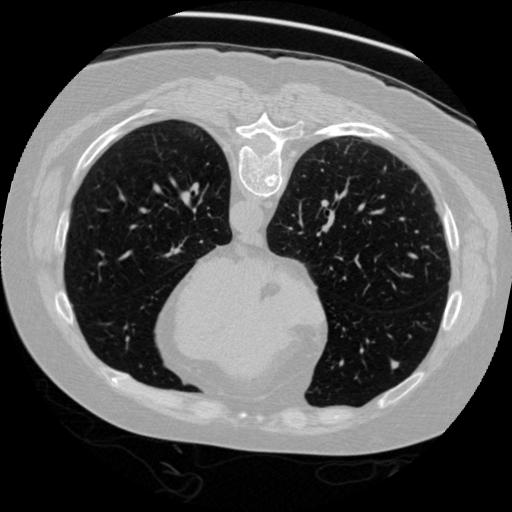nodule: (388, 358, 404, 374)
